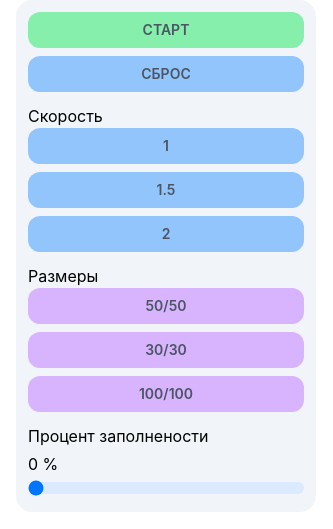
Sidebar tests › change range Input
The image size is (333, 529).
Set the slider with test id "rangeInput" to "60": point(231, 488) [28,482,304,494]
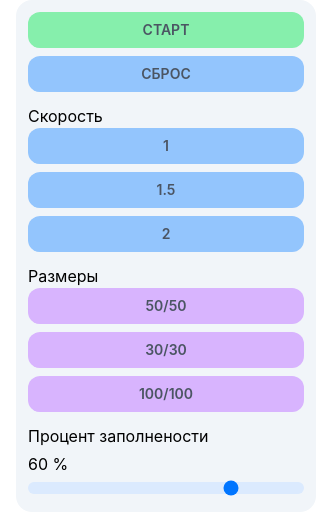
Click the button "Сброс": point(166, 74) [28,56,304,92]
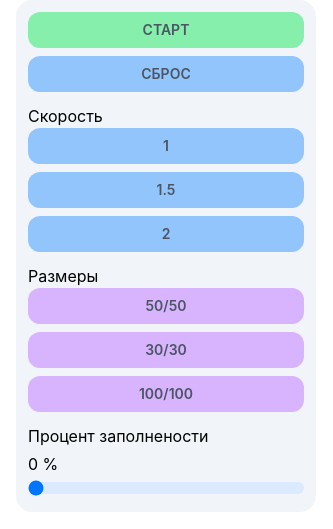
Expected: the label with test id "rangeLabel" reads "0 %", [28,454,58,474]
